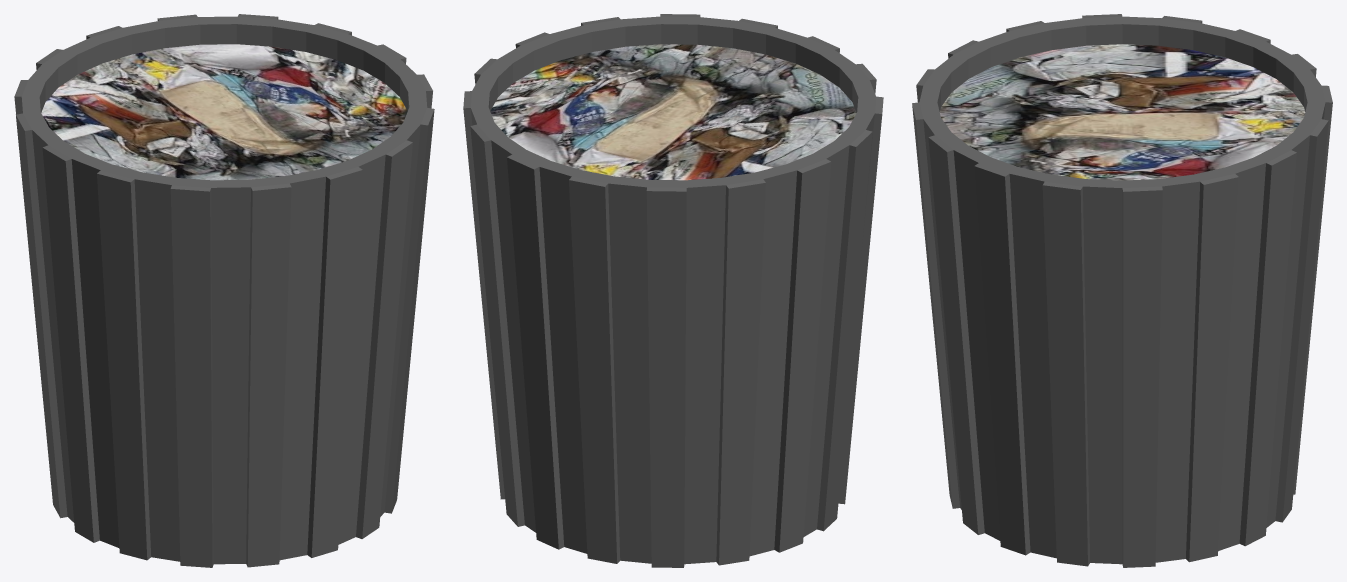
The model's file is мусорка.fbx.
The picture shows the model from 3 angles, left to right: view 1: azimuth 30°, elevation 25°; view 2: azimuth 150°, elevation 25°; view 3: azimuth 270°, elevation 25°; orthographic projection.
Parts seen in each view (by area): view 1: Cylinder; view 2: Cylinder; view 3: Cylinder.
Boxes of the visible parts, x1,y1,x2,y2 form: Cylinder: (14,14,434,567); Cylinder: (463,14,883,567); Cylinder: (912,14,1332,567).
Bounding box in the file's own units: 254 × 262 × 254.
Materials: 2 (1 with a texture image).
